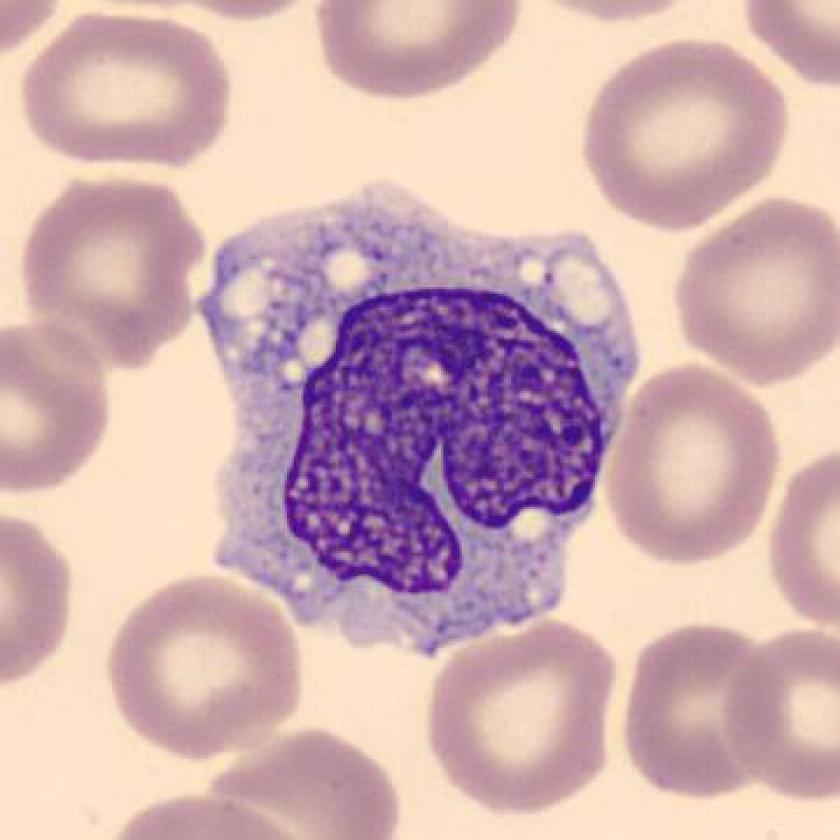monocyte: (181, 175, 659, 675)
